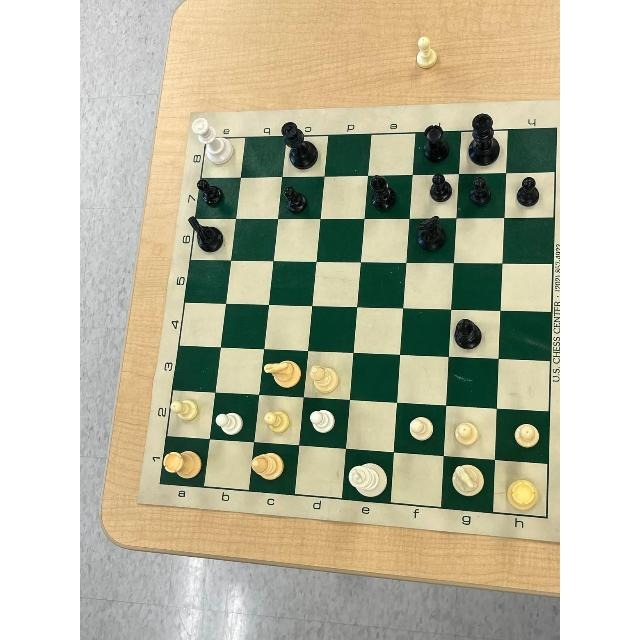black-bishop: (450, 307, 495, 355), (366, 173, 404, 217)
black-king: (460, 110, 504, 169)
black-knight: (408, 215, 455, 260), (187, 215, 228, 255)
black-pawn: (506, 172, 554, 217), (459, 172, 503, 217), (410, 172, 455, 210), (279, 177, 318, 216), (191, 176, 231, 211)
black-queen: (276, 118, 324, 178)
black-rook: (414, 123, 453, 167)
white-bishop: (249, 441, 297, 488), (444, 457, 487, 509), (306, 350, 348, 398)
white-knight: (261, 348, 304, 397)
white-pawn: (500, 408, 547, 456), (446, 406, 490, 454), (396, 402, 439, 450), (211, 394, 253, 442), (257, 395, 299, 441), (168, 389, 210, 434), (306, 398, 346, 441)
white-queen: (187, 113, 242, 174)
white-rook: (495, 459, 551, 516), (345, 446, 395, 507), (161, 435, 205, 487)
